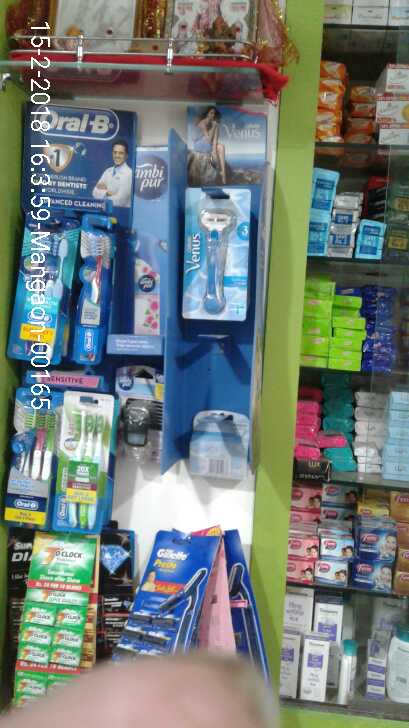beauty: (184, 187, 243, 320), (23, 588, 87, 676)
home: (116, 376, 174, 464)
pharmacy: (74, 221, 103, 366), (70, 398, 100, 529)
